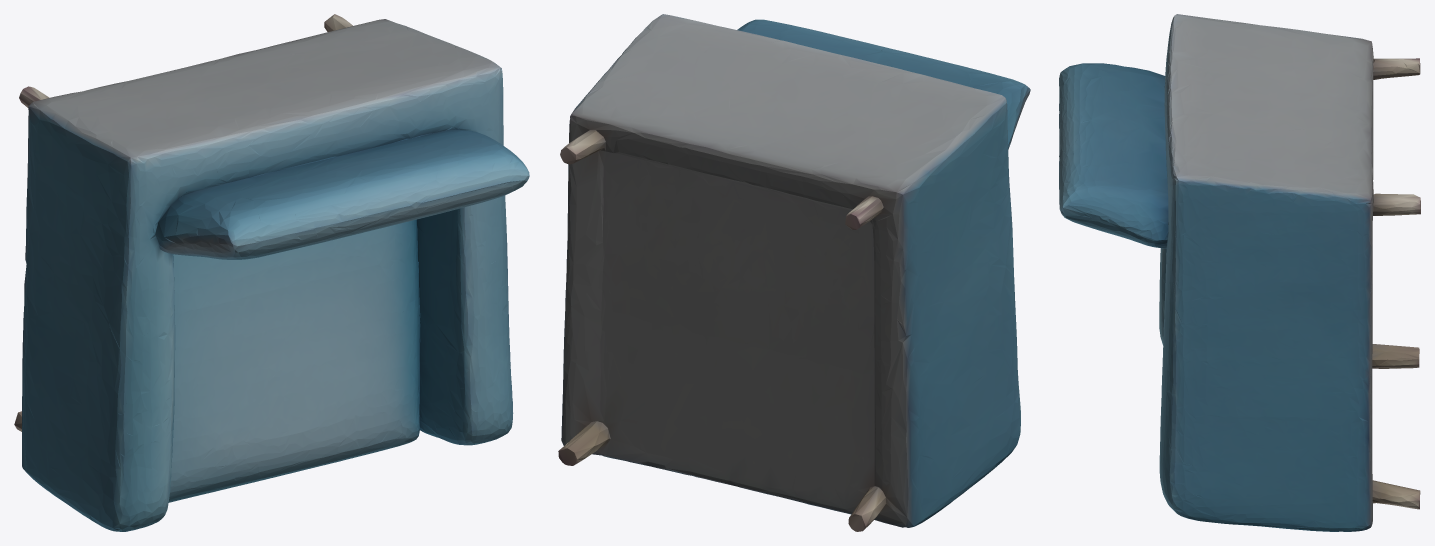
The model's file is armchair_31.glb.
3 renders of one model, left to right at view 1: azimuth 30°, elevation 25°; view 2: azimuth 150°, elevation 25°; view 3: azimuth 270°, elevation 25°, orthographic. The views are drawn at different scales.
Visible parts, largest first — view 1: geometry_0; view 2: geometry_0; view 3: geometry_0.
Part boxes in pixels (x1=…): geometry_0: x1=14, y1=14, x2=529, y2=531; geometry_0: x1=558, y1=14, x2=1030, y2=531; geometry_0: x1=1059, y1=14, x2=1420, y2=531.
Bounding box in the file's own units: 0.9392 × 0.8952 × 0.8121.
